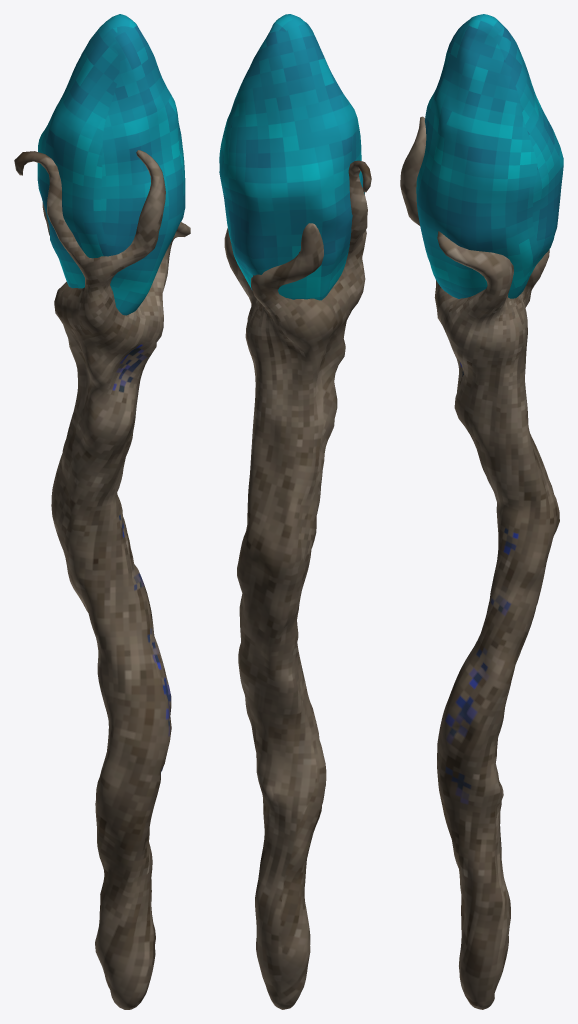
File: Stick_low.fbx
3 views of the same model, side by side, from view 1: azimuth 30°, elevation 25°; view 2: azimuth 150°, elevation 25°; view 3: azimuth 270°, elevation 25° (orthographic).
Visible parts, largest first — view 1: Stick_low; view 2: Stick_low; view 3: Stick_low.
Part boxes in pixels (x1,y1,x2,y2): Stick_low: (14,14,190,1009); Stick_low: (219,14,371,1009); Stick_low: (400,14,563,1009).
Size of the model in its own units: 19.71 by 122 by 18.21.
